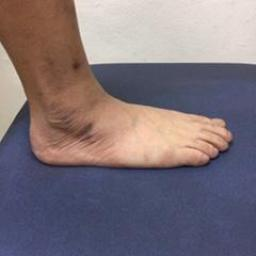Lateral View -Right Foot-: (12, 70, 234, 184)
